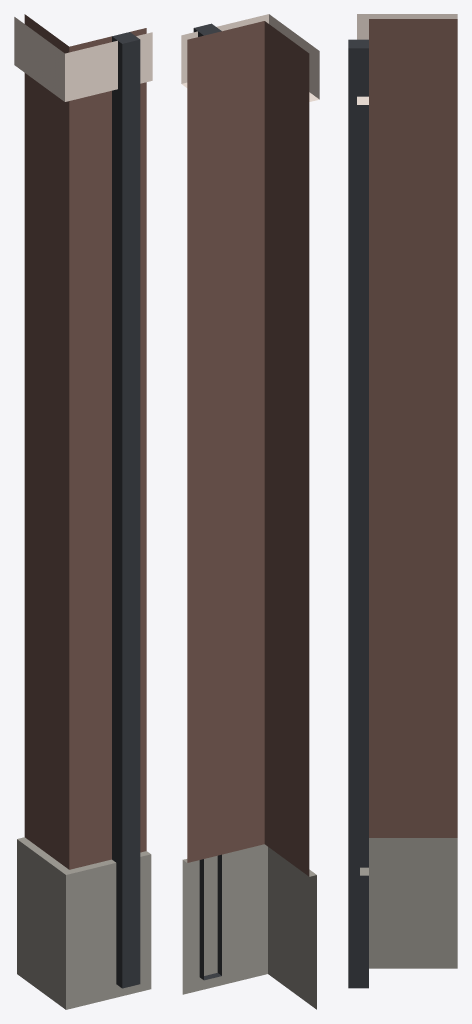
3 views of the same model, side by side, from view 1: azimuth 30°, elevation 25°; view 2: azimuth 210°, elevation 25°; view 3: azimuth 270°, elevation 25° (orthographic).
Parts seen in each view (by area): view 1: a2000s3/600/base-c1; view 2: a2000s3/600/base-c1; view 3: a2000s3/600/base-c1.
Part boxes in pixels (left/top/right/bottom): a2000s3/600/base-c1: left=14, top=14, right=152, bottom=1009; a2000s3/600/base-c1: left=181, top=14, right=319, bottom=1009; a2000s3/600/base-c1: left=348, top=14, right=457, bottom=988.
Bounding box in the file's own units: 0.34 × 3.55 × 0.37.
